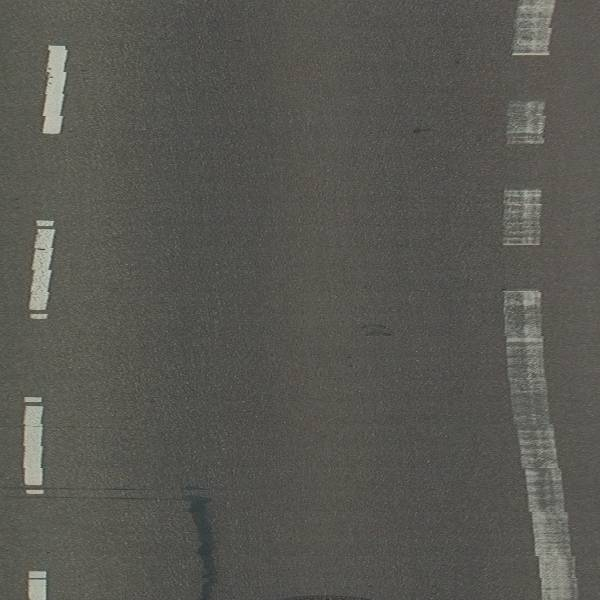road_damage: (173, 478, 230, 600)
